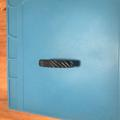gear: (38, 58, 82, 69)
